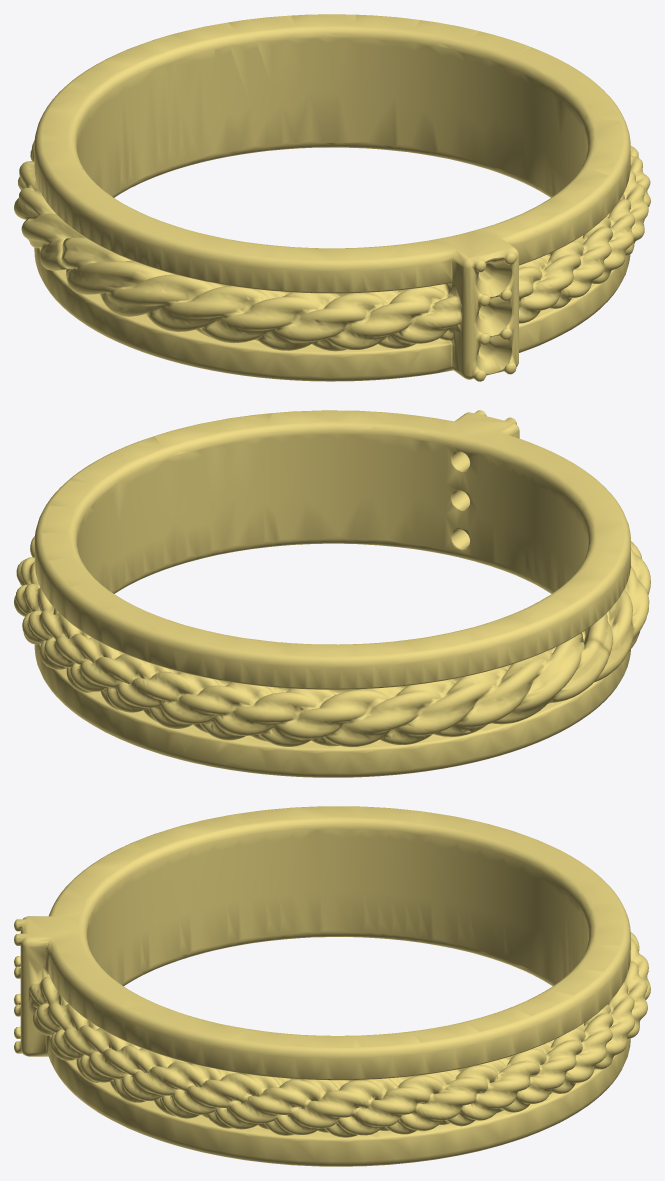
The model's file is rope_ring_web.glb.
The picture shows the model from 3 angles, top to bottom: view 1: azimuth 30°, elevation 25°; view 2: azimuth 150°, elevation 25°; view 3: azimuth 270°, elevation 25°; orthographic projection.
Parts seen in each view (by area): view 1: ring; view 2: ring; view 3: ring.
Boxes of the visible parts, <box> form: ring: <box>14,14,650,381</box>; ring: <box>14,410,650,777</box>; ring: <box>14,806,650,1166</box>.
Size of the model in its own units: 0.0228 by 0.00479 by 0.0233.
